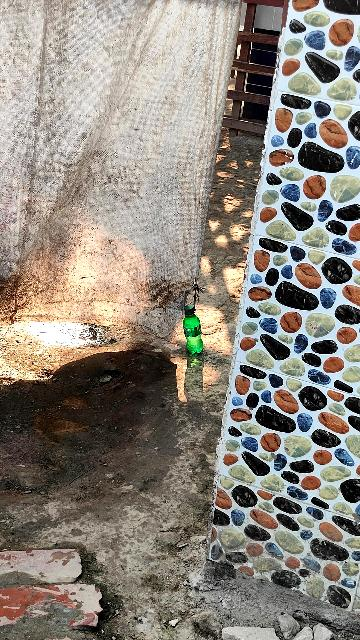bottle: (175, 301, 212, 359)
